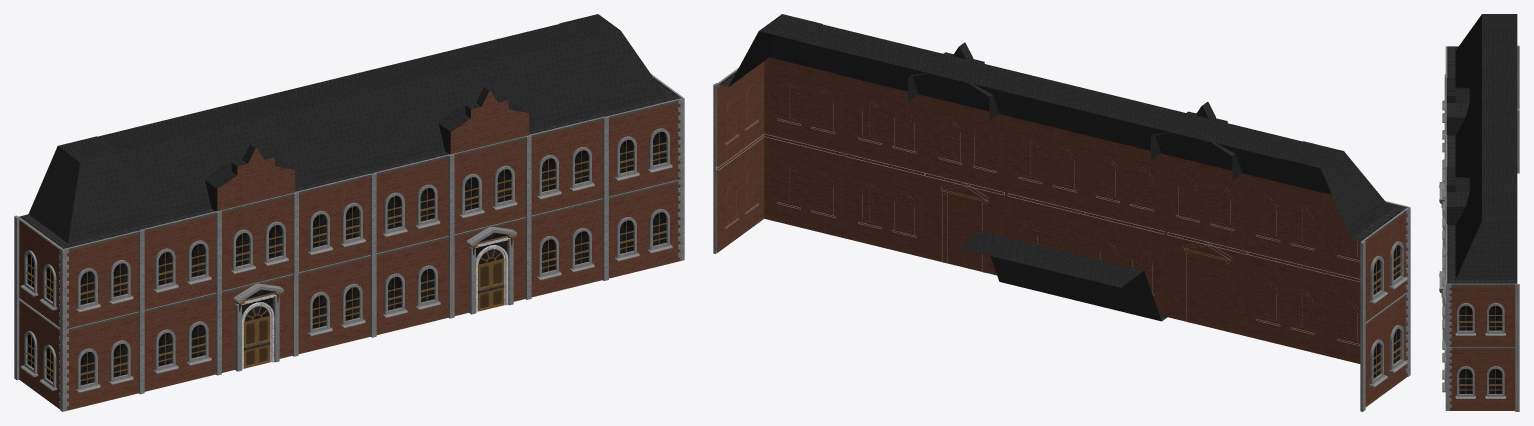
The model's file is Mansion.001_House.003a.fbx.
3 renders of one model, left to right at view 1: azimuth 30°, elevation 25°; view 2: azimuth 150°, elevation 25°; view 3: azimuth 270°, elevation 25°, orthographic. The views are drawn at different scales.
Parts seen in each view (by area): view 1: Mansion001_House_003; view 2: Mansion001_House_003; view 3: Mansion001_House_003.
Boxes of the visible parts, left/top/right/bottom form: Mansion001_House_003: left=14, top=14, right=684, bottom=411; Mansion001_House_003: left=713, top=14, right=1410, bottom=411; Mansion001_House_003: left=1439, top=14, right=1519, bottom=411.
Bounding box in the file's own units: 3225 × 1092 × 453.
